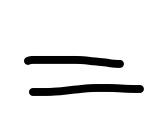eqv: (25, 49, 145, 98)
